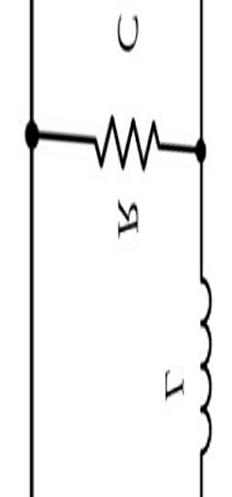inductor: (185, 252, 221, 469)
